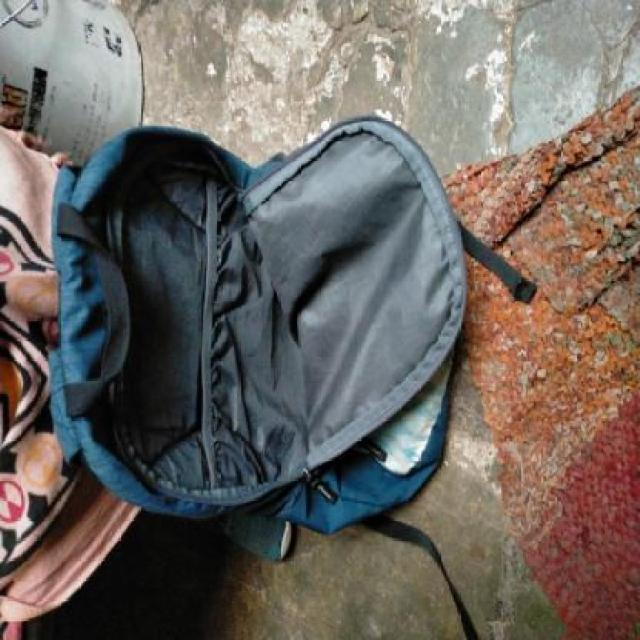backpack: (41, 109, 472, 565)
